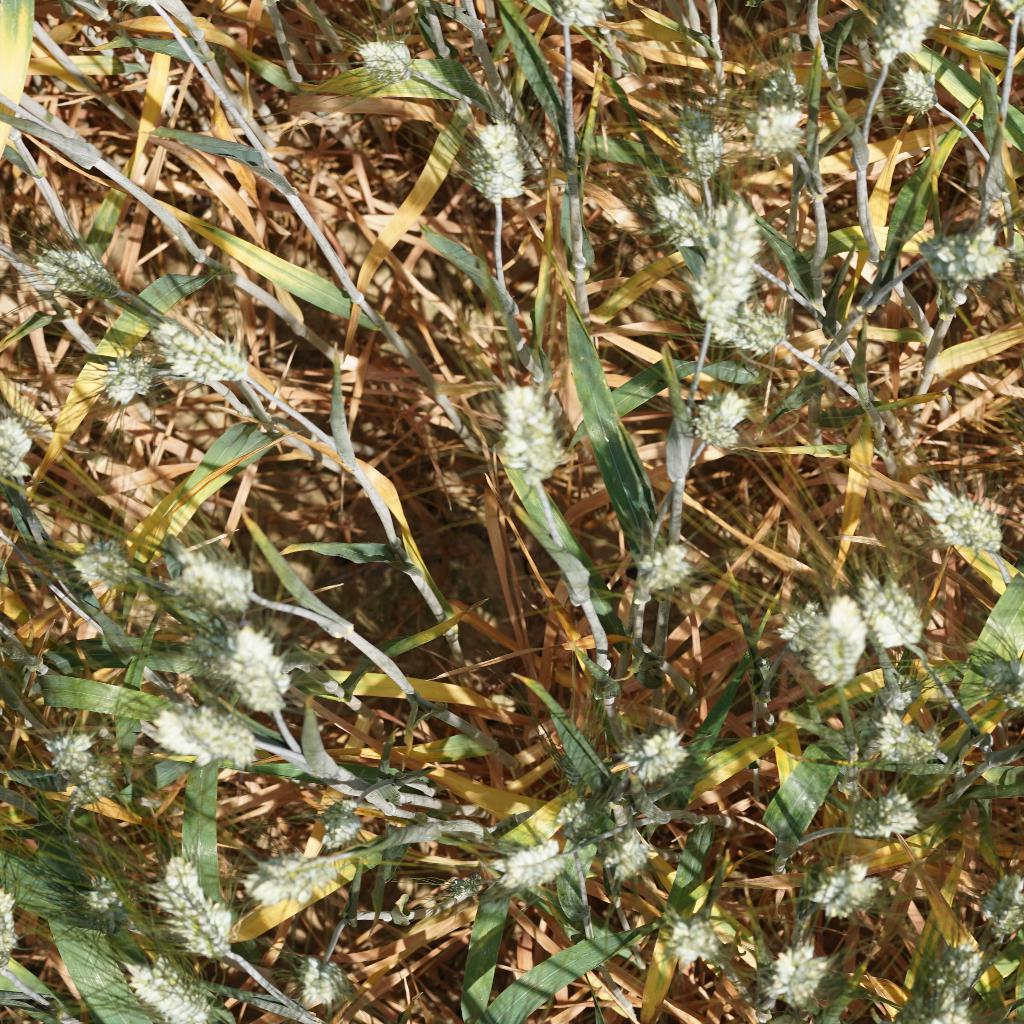0-0: (149, 851, 243, 974), (141, 309, 264, 399), (556, 791, 661, 888), (680, 197, 750, 340), (772, 583, 869, 686), (488, 374, 574, 489), (148, 539, 273, 616), (602, 705, 703, 796), (43, 242, 160, 320), (449, 103, 534, 209), (134, 697, 262, 763), (235, 836, 347, 907), (220, 624, 296, 725), (610, 519, 695, 606), (911, 220, 1015, 291), (908, 927, 985, 1020), (38, 729, 123, 811), (744, 101, 832, 179), (920, 475, 1008, 552), (127, 952, 216, 1024), (855, 567, 927, 654), (664, 96, 740, 172), (870, 0, 952, 70), (496, 837, 583, 901), (766, 941, 849, 1008), (832, 781, 929, 838), (343, 21, 418, 92), (313, 793, 387, 863), (803, 848, 878, 914), (858, 690, 929, 758), (956, 862, 1024, 929), (66, 534, 133, 601), (722, 303, 791, 365), (0, 409, 51, 490), (662, 912, 725, 975), (681, 389, 746, 449), (77, 867, 135, 931), (298, 950, 351, 1016), (970, 651, 1024, 711), (894, 64, 948, 123), (98, 352, 154, 408), (638, 179, 680, 242), (743, 59, 800, 103), (0, 883, 28, 964)
